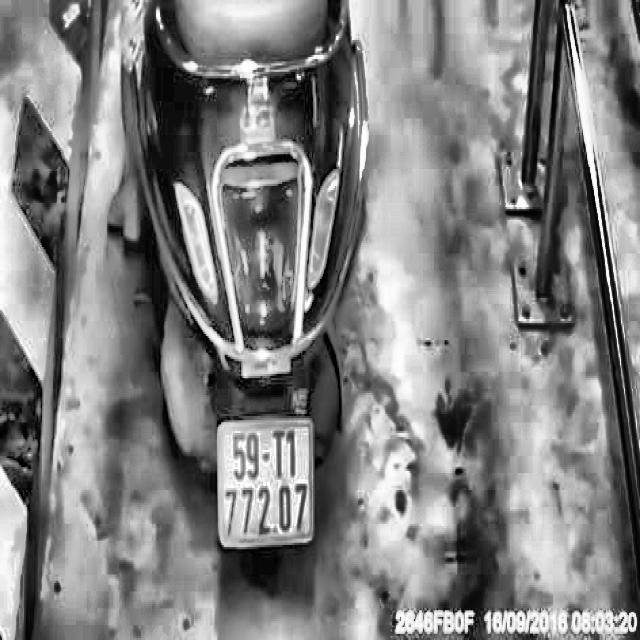plate: (212, 412, 319, 551)
